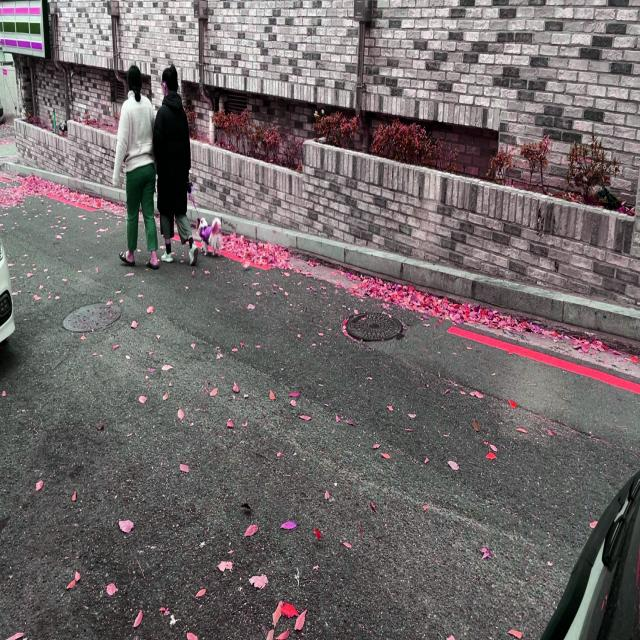Leashed_Dog: (173, 152, 223, 258)
